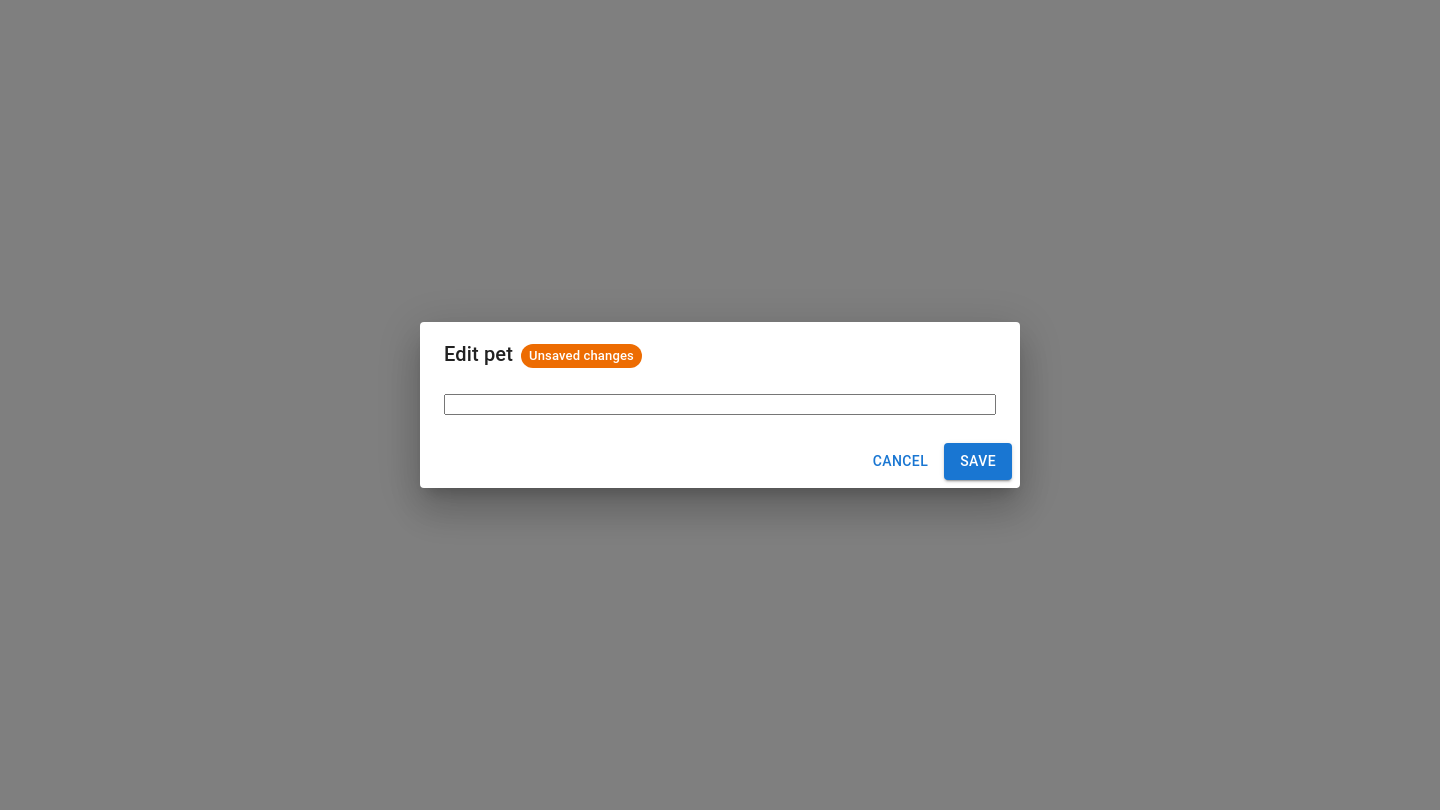
a dirty dialog › takes the question back on Keep editing, and keeps the work
Press Escape
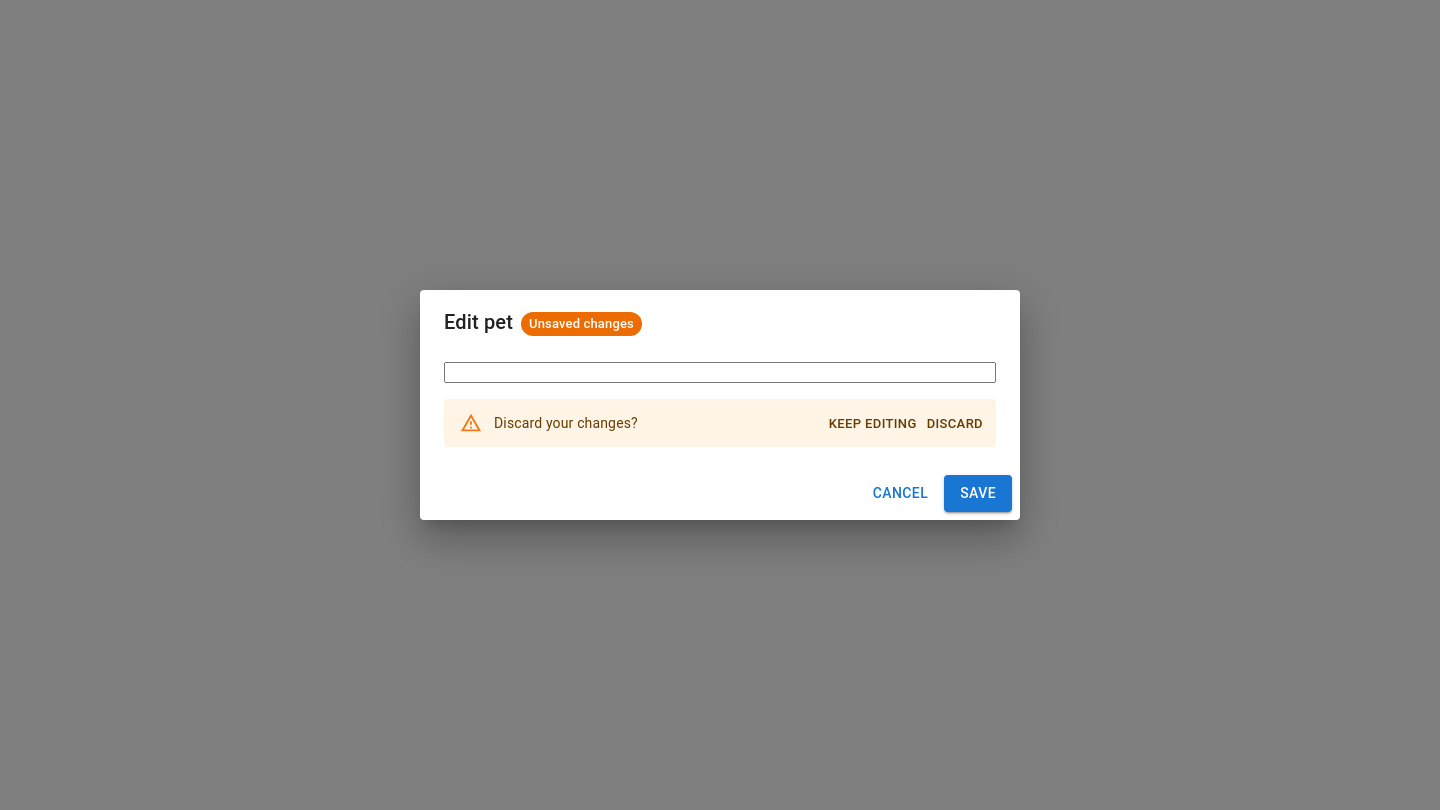
Click the button "Keep editing" at point(873, 425), box x1=824 y1=409 x2=922 y2=440
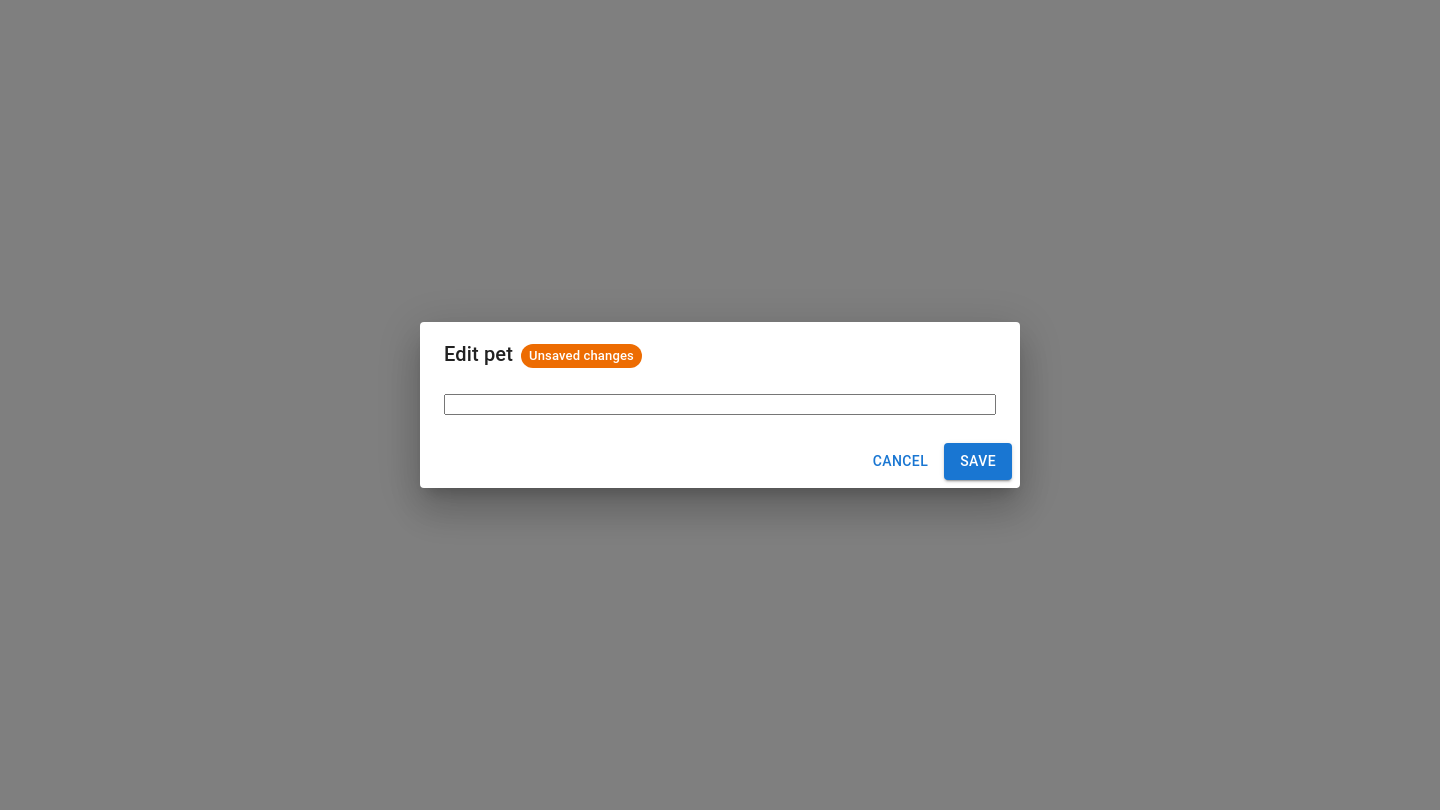
Expected: the dialog is shown, x1=420 y1=322 x2=1020 y2=488
Expected: the text "Discard your changes?" is gone
